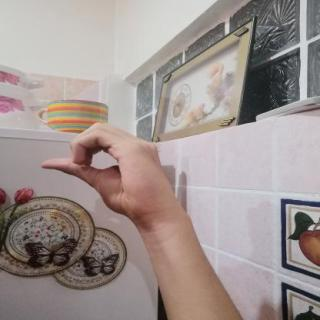WAW: (32, 114, 182, 226)
